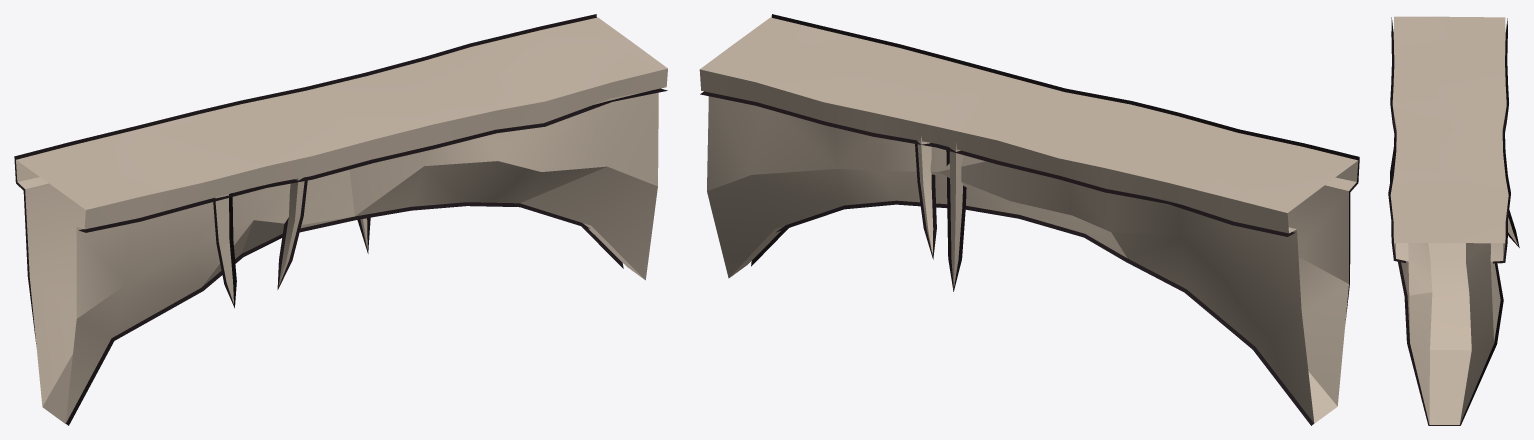
File: SM_Trail_Deck_24.fbx
The picture shows the model from 3 angles, left to right: view 1: azimuth 30°, elevation 25°; view 2: azimuth 150°, elevation 25°; view 3: azimuth 270°, elevation 25°; orthographic projection. The views are drawn at different scales.
Visible parts, largest first — view 1: SM_Trail_Deck_24; view 2: SM_Trail_Deck_24; view 3: SM_Trail_Deck_24.
Boxes of the visible parts, box(x1,y1,x2,y2) form: SM_Trail_Deck_24: box(14, 14, 667, 425); SM_Trail_Deck_24: box(699, 14, 1359, 425); SM_Trail_Deck_24: box(1388, 16, 1519, 425).
Bounding box in the file's own units: 24.01 × 9.24 × 5.9.
